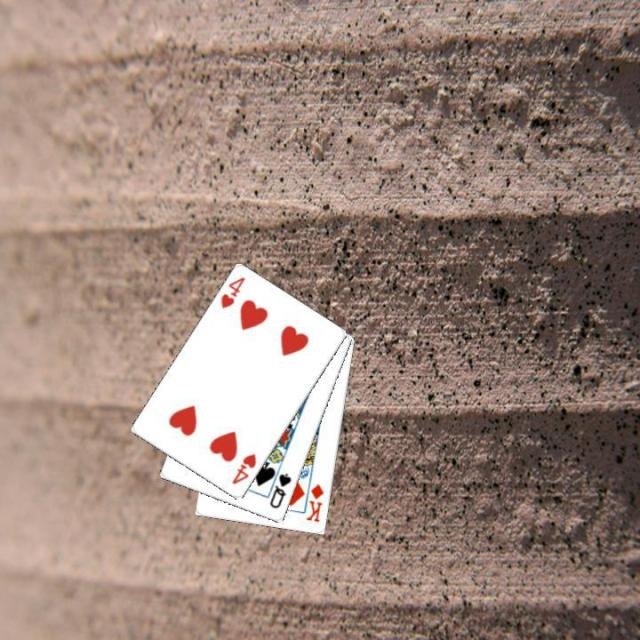4H: (228, 450, 258, 487), (217, 273, 247, 310)
KD: (302, 480, 326, 524)
QS: (266, 470, 293, 510)
